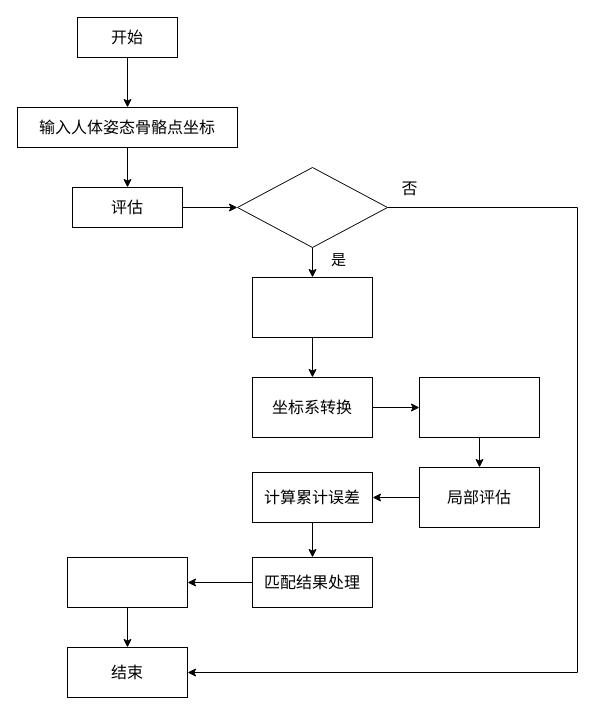
This 603x715 diagram has some shape labels left out. Here are the shapes that lost their labels. From the top down, the box of each, then its label:
(236, 166, 388, 248): 判断合法性
(252, 276, 372, 338): 评估流程
(418, 376, 540, 438): 与标准姿态匹配
(66, 556, 188, 608): 输出匹配结果
